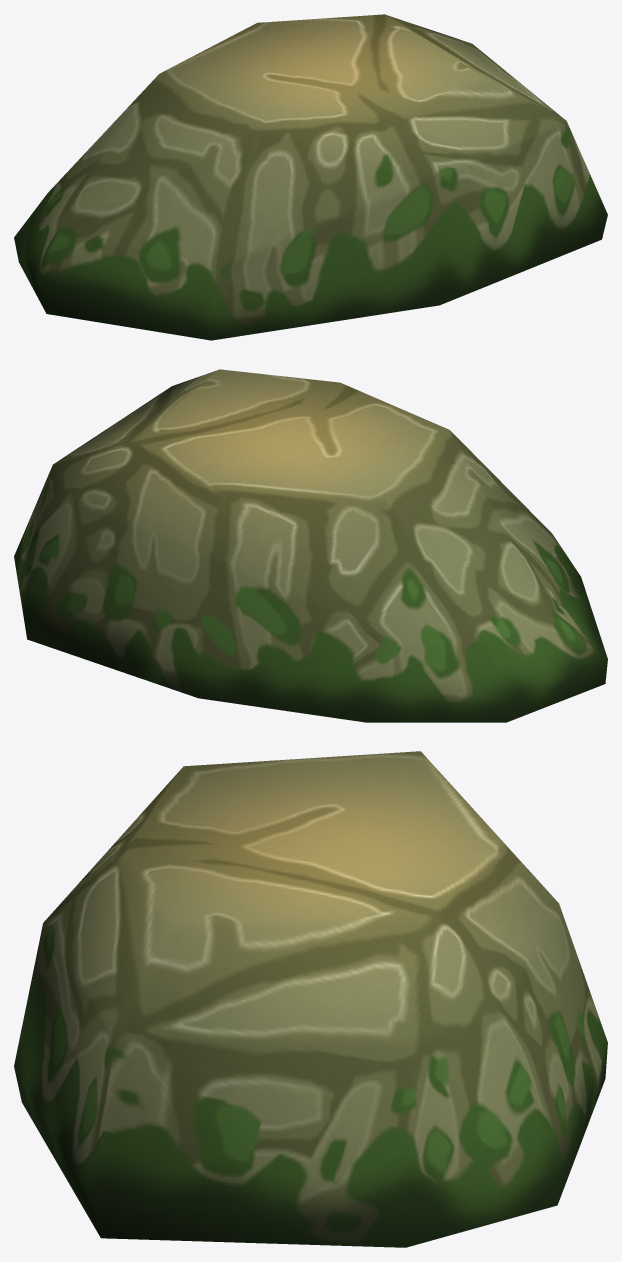
The model's file is Rock_06.FBX.
3 views of the same model, one above another, from view 1: azimuth 30°, elevation 25°; view 2: azimuth 150°, elevation 25°; view 3: azimuth 270°, elevation 25° (orthographic). The views are drawn at different scales.
Parts seen in each view (by area): view 1: Rock_06; view 2: Rock_06; view 3: Rock_06.
Part boxes in pixels (<box>): Rock_06: <box>14,14,607,340</box>; Rock_06: <box>14,369,607,722</box>; Rock_06: <box>14,751,607,1247</box>.
Bounding box in the file's own units: 0.7936 × 0.2477 × 0.5396.
